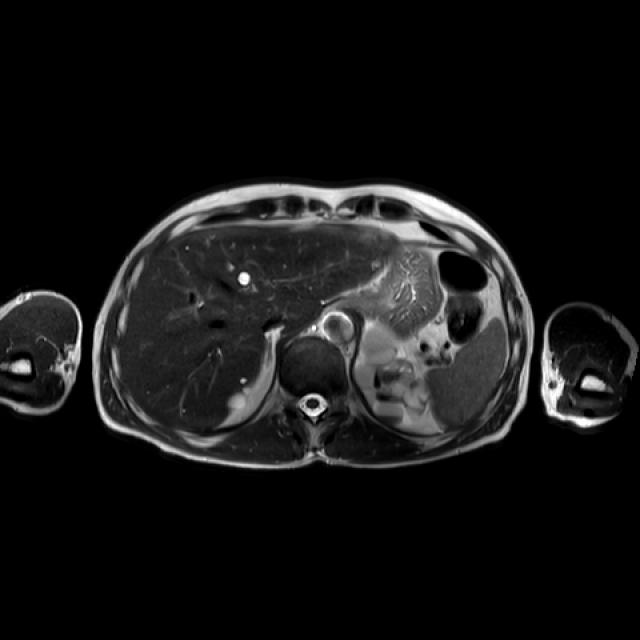sag: (229, 386, 250, 410)
sol: (356, 325, 430, 420)
